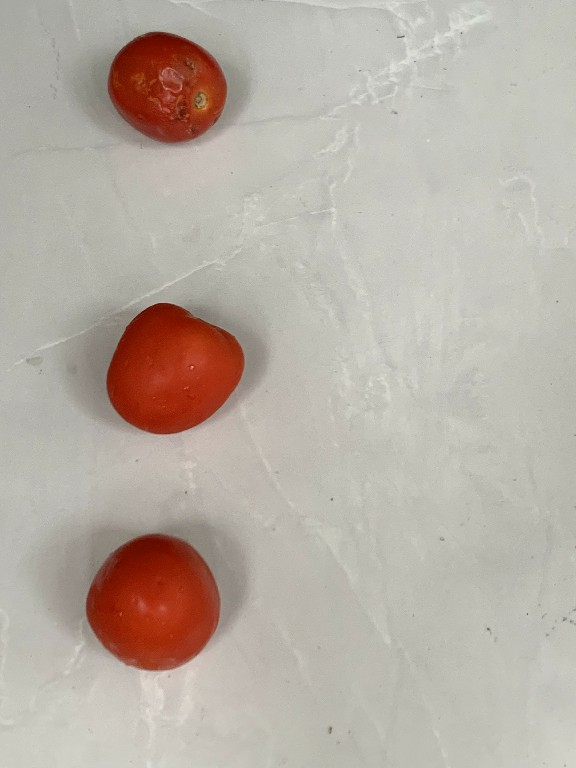NG: (101, 26, 229, 148)
OK: (78, 529, 227, 677), (98, 301, 248, 436)
